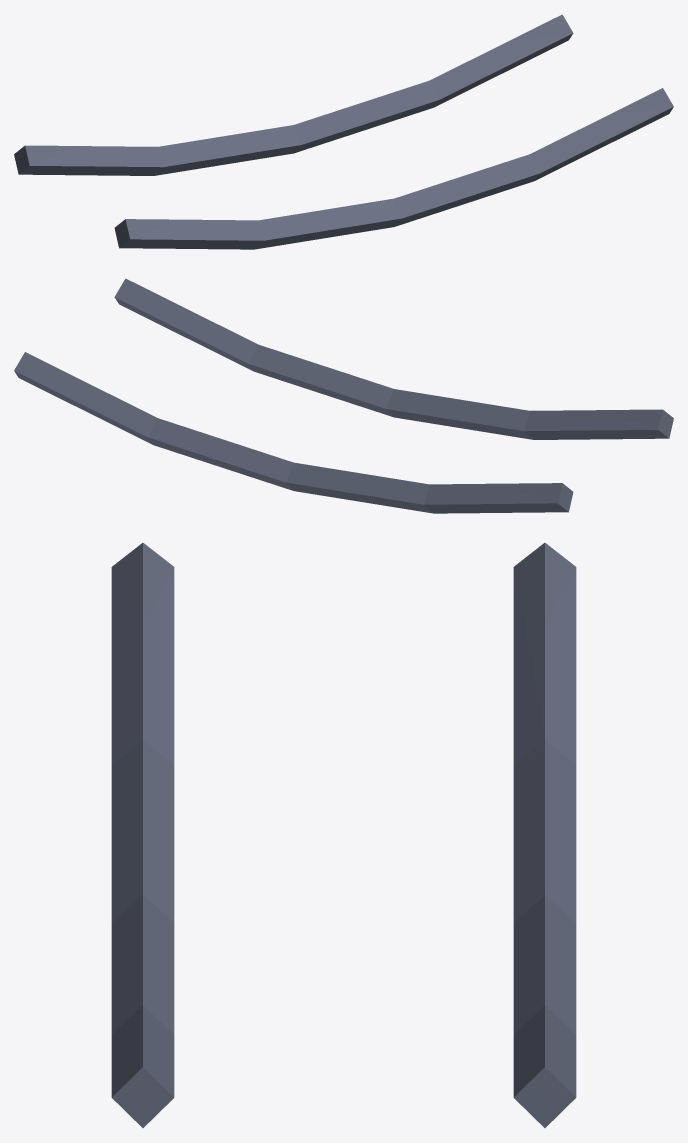
Rendered from roads__electricity-wires.glb.
3 views of the same model, one above another, from view 1: azimuth 30°, elevation 25°; view 2: azimuth 150°, elevation 25°; view 3: azimuth 270°, elevation 25° (orthographic). The views are drawn at different scales.
Parts seen in each view (by area): view 1: electricity-wires; view 2: electricity-wires; view 3: electricity-wires.
Boxes of the visible parts, left/top/right/bottom form: electricity-wires: left=14, top=14, right=673, bottom=249; electricity-wires: left=14, top=278, right=673, bottom=513; electricity-wires: left=111, top=543, right=576, bottom=1127.
Size of the model in its own units: 0.5059 by 0.0647 by 0.185.
1 material, 1 textured.
